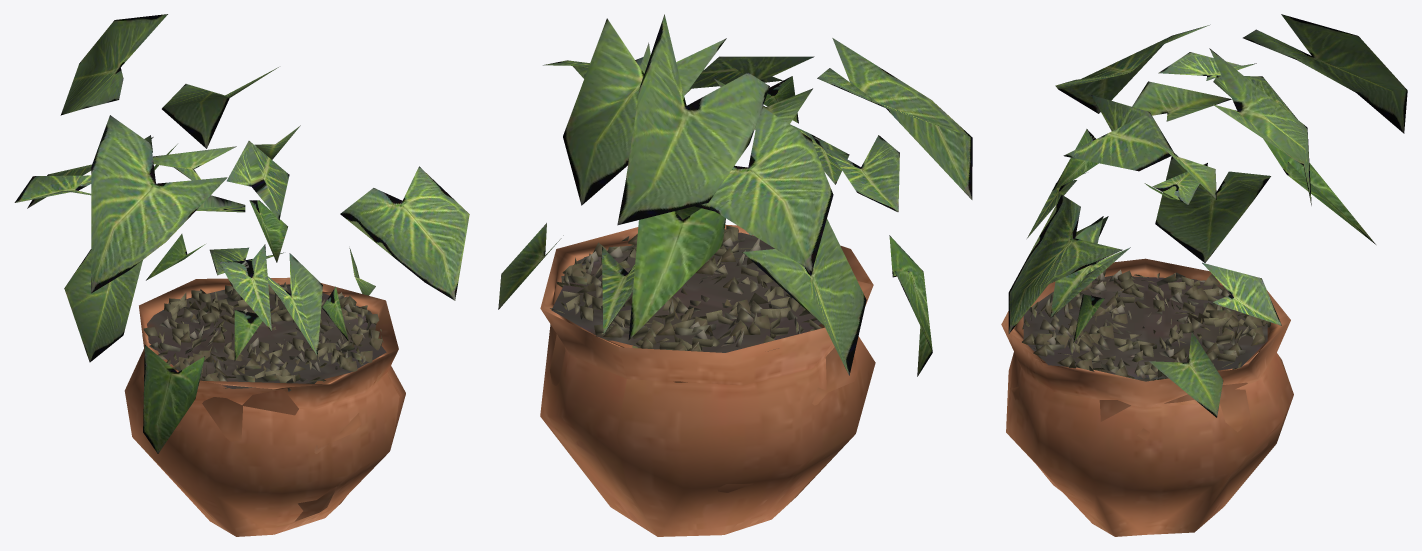
The model's file is plant-large.glb.
3 views of the same model, side by side, from view 1: azimuth 30°, elevation 25°; view 2: azimuth 150°, elevation 25°; view 3: azimuth 270°, elevation 25° (orthographic). The views are drawn at different scales.
Visible parts, largest first — view 1: potted_plant_02_leaves, potted_plant_02_pot, potted_plant_02_dirt; view 2: potted_plant_02_leaves, potted_plant_02_pot, potted_plant_02_dirt; view 3: potted_plant_02_leaves, potted_plant_02_pot, potted_plant_02_dirt.
Boxes of the visible parts, left/top/right/bottom form: potted_plant_02_leaves: left=14, top=14, right=469, bottom=453; potted_plant_02_pot: left=124, top=277, right=405, bottom=536; potted_plant_02_dirt: left=142, top=282, right=386, bottom=391; potted_plant_02_leaves: left=498, top=14, right=972, bottom=376; potted_plant_02_pot: left=540, top=224, right=875, bottom=536; potted_plant_02_dirt: left=550, top=225, right=821, bottom=352; potted_plant_02_leaves: left=1008, top=14, right=1407, bottom=417; potted_plant_02_pot: left=1001, top=258, right=1293, bottom=536; potted_plant_02_dirt: left=1022, top=269, right=1270, bottom=381.
Size of the model in its own units: 0.7009 by 0.8395 by 0.6495.
Materials: 2 (2 with a texture image).
